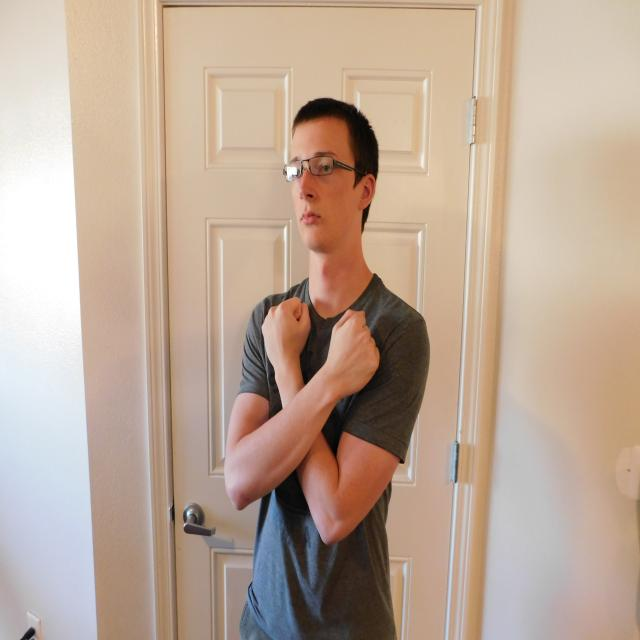love: (262, 296, 380, 398)
